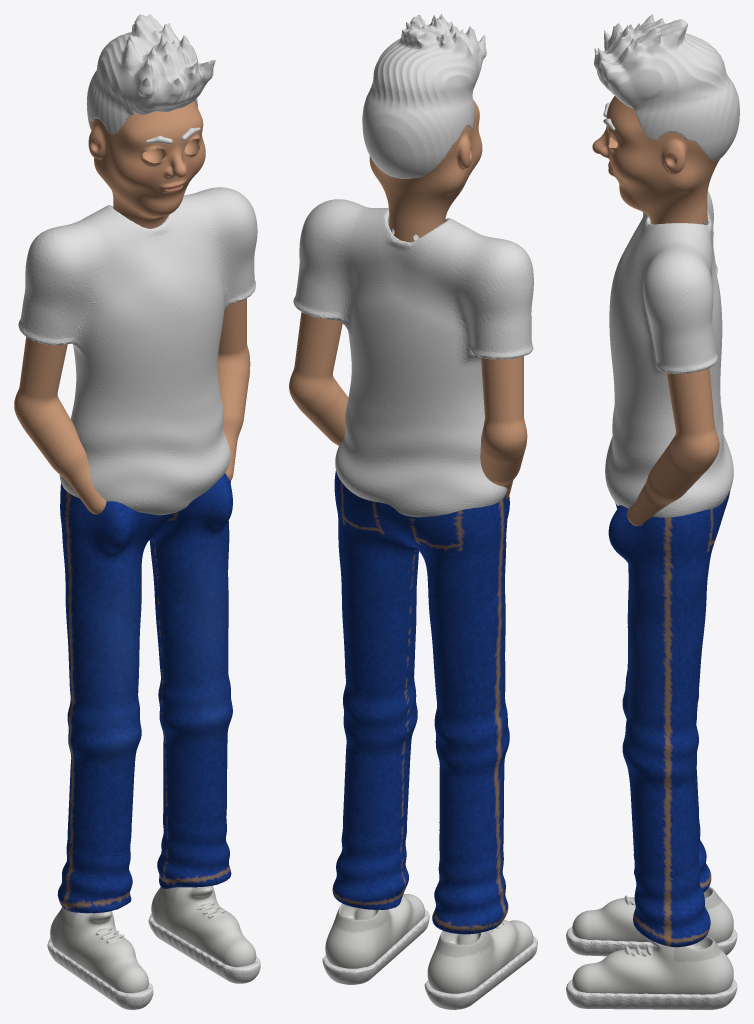
File: teen.glb
3 renders of one model, left to right at view 1: azimuth 30°, elevation 25°; view 2: azimuth 150°, elevation 25°; view 3: azimuth 270°, elevation 25°, orthographic.
Parts seen in each view (by area): view 1: pants, shirt, skin_head, hair, skin_arm_R, shoe_L_upper, shoe_R_upper, skin_arm_L, shoe_L_sole, shoe_R_sole; view 2: pants, shirt, hair, skin_head, skin_arm_R, skin_arm_L, shoe_R_upper, shoe_L_upper, shoe_R_sole, shoe_L_sole; view 3: pants, shirt, hair, skin_head, shoe_L_upper, skin_arm_L, shoe_R_upper, shoe_L_sole, shoe_R_sole.
Part boxes in pixels (x1=…): pants: x1=57, y1=473, x2=232, y2=913; shirt: x1=18, y1=187, x2=257, y2=515; skin_head: x1=88, y1=101, x2=205, y2=228; hair: x1=86, y1=14, x2=215, y2=134; skin_arm_R: x1=14, y1=337, x2=106, y2=514; shoe_L_upper: x1=151, y1=885, x2=256, y2=966; shoe_R_upper: x1=50, y1=907, x2=148, y2=992; skin_arm_L: x1=217, y1=298, x2=250, y2=481; shoe_L_sole: x1=148, y1=913, x2=260, y2=983; shoe_R_sole: x1=47, y1=938, x2=153, y2=1009; pants: x1=332, y1=471, x2=509, y2=934; shirt: x1=293, y1=199, x2=533, y2=517; hair: x1=362, y1=14, x2=486, y2=178; skin_head: x1=369, y1=100, x2=482, y2=242; skin_arm_R: x1=480, y1=356, x2=527, y2=499; skin_arm_L: x1=289, y1=312, x2=348, y2=445; shoe_R_upper: x1=427, y1=919, x2=533, y2=993; shoe_L_upper: x1=325, y1=894, x2=424, y2=968; shoe_R_sole: x1=424, y1=936, x2=537, y2=1009; shoe_L_sole: x1=322, y1=910, x2=429, y2=984; pants: x1=608, y1=491, x2=730, y2=947; shirt: x1=605, y1=191, x2=733, y2=517; hair: x1=594, y1=14, x2=739, y2=161; skin_head: x1=592, y1=96, x2=719, y2=224; shoe_L_upper: x1=572, y1=936, x2=733, y2=994; skin_arm_L: x1=627, y1=368, x2=719, y2=526; shoe_R_upper: x1=572, y1=886, x2=733, y2=943; shoe_L_sole: x1=566, y1=978, x2=737, y2=1009; shoe_R_sole: x1=566, y1=926, x2=737, y2=956.
Size of the model in its own units: 0.4541 by 1.78 by 0.2927.
